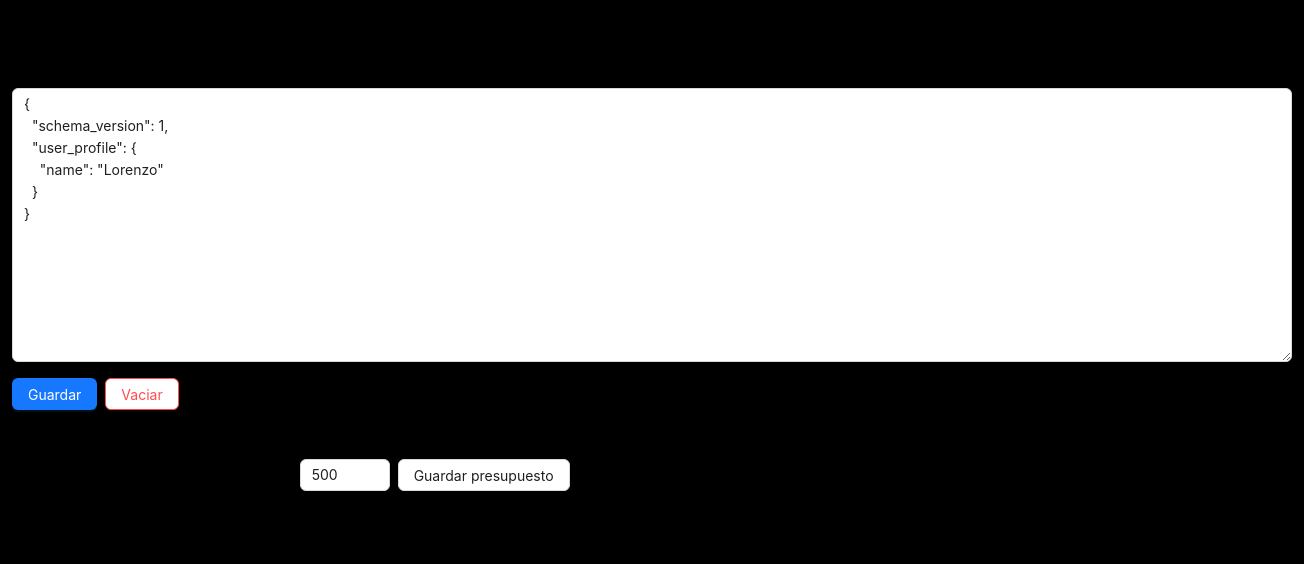
Test case: PersistentMemoryPanel › muestra el warning de tamaño devuelto por el servidor
Click the button "Guardar".
click(55, 394)  # box x1=12 y1=378 x2=97 y2=410
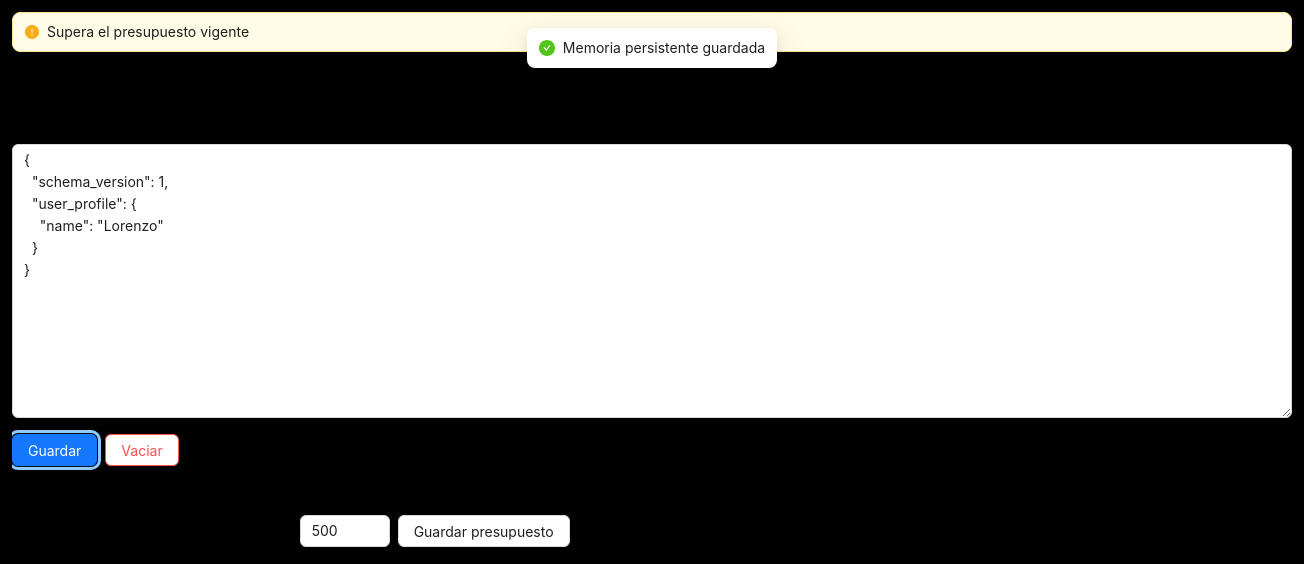
Result: the text "Supera el presupuesto vigente" is shown at x1=47 y1=23 x2=249 y2=40
